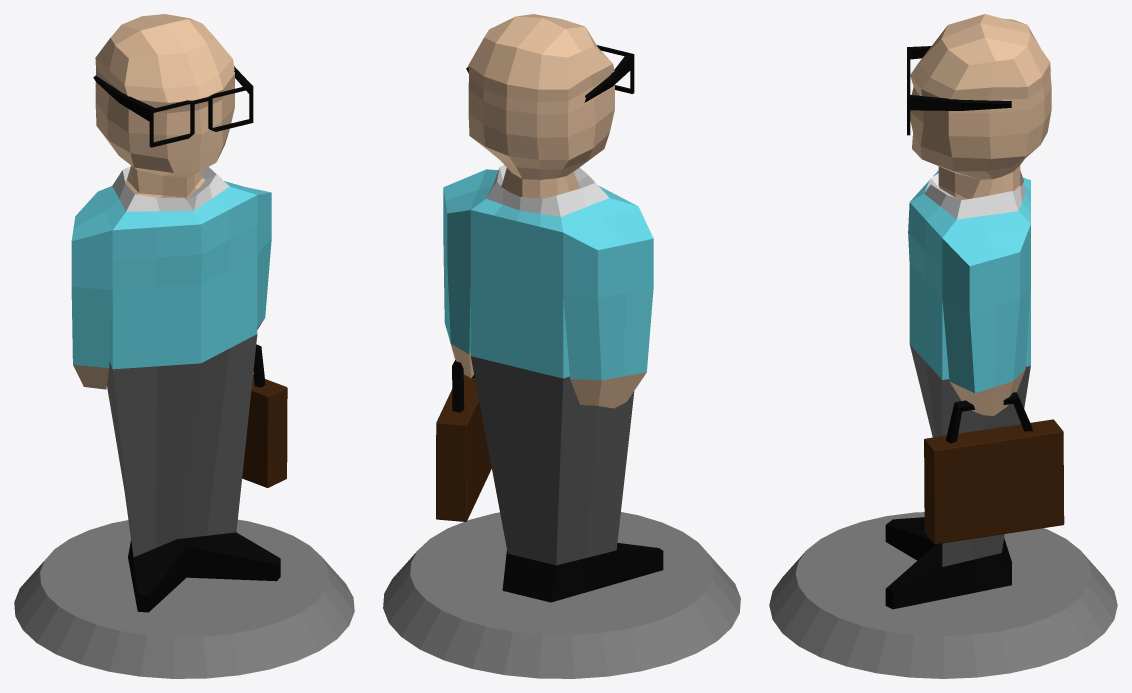
Rendered from tano_1.glb.
The picture shows the model from 3 angles, left to right: view 1: azimuth 30°, elevation 25°; view 2: azimuth 150°, elevation 25°; view 3: azimuth 270°, elevation 25°; orthographic projection. The views are drawn at different scales.
Parts seen in each view (by area): view 1: TANO, Cylinder, BriefCase, GLASSES; view 2: TANO, Cylinder, BriefCase, GLASSES, BezierCurve; view 3: TANO, Cylinder, BriefCase, GLASSES, BezierCurve.
Part boxes in pixels (bbox=[...]): TANO: bbox=[71, 14, 280, 612]; Cylinder: bbox=[14, 519, 354, 678]; BriefCase: bbox=[242, 374, 287, 487]; GLASSES: bbox=[93, 66, 253, 147]; TANO: bbox=[443, 14, 663, 602]; Cylinder: bbox=[383, 512, 740, 678]; BriefCase: bbox=[436, 374, 491, 521]; GLASSES: bbox=[466, 45, 634, 102]; BezierCurve: bbox=[452, 360, 474, 412]; TANO: bbox=[885, 14, 1051, 609]; Cylinder: bbox=[769, 512, 1117, 678]; BriefCase: bbox=[924, 419, 1064, 544]; GLASSES: bbox=[907, 46, 1011, 135]; BezierCurve: bbox=[946, 392, 1032, 443].
Size of the model in its own units: 1.62 by 2.98 by 1.62.
